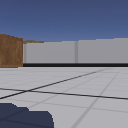obstacle: (1, 34, 24, 68)
